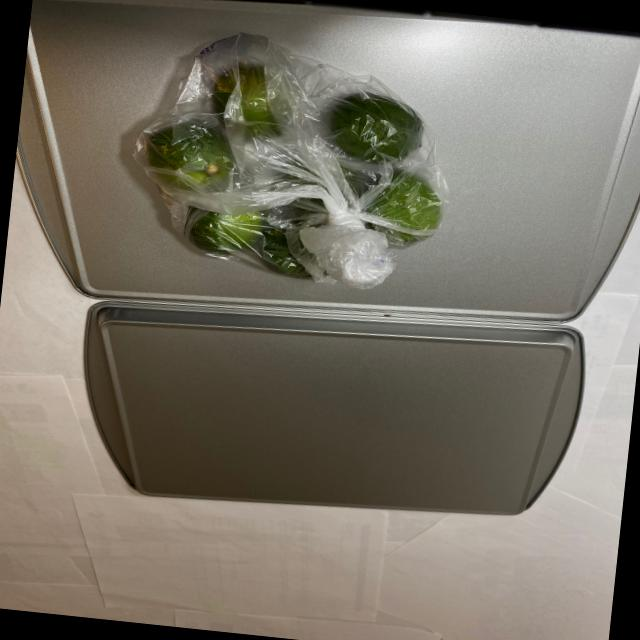lemon: (128, 48, 452, 294)
